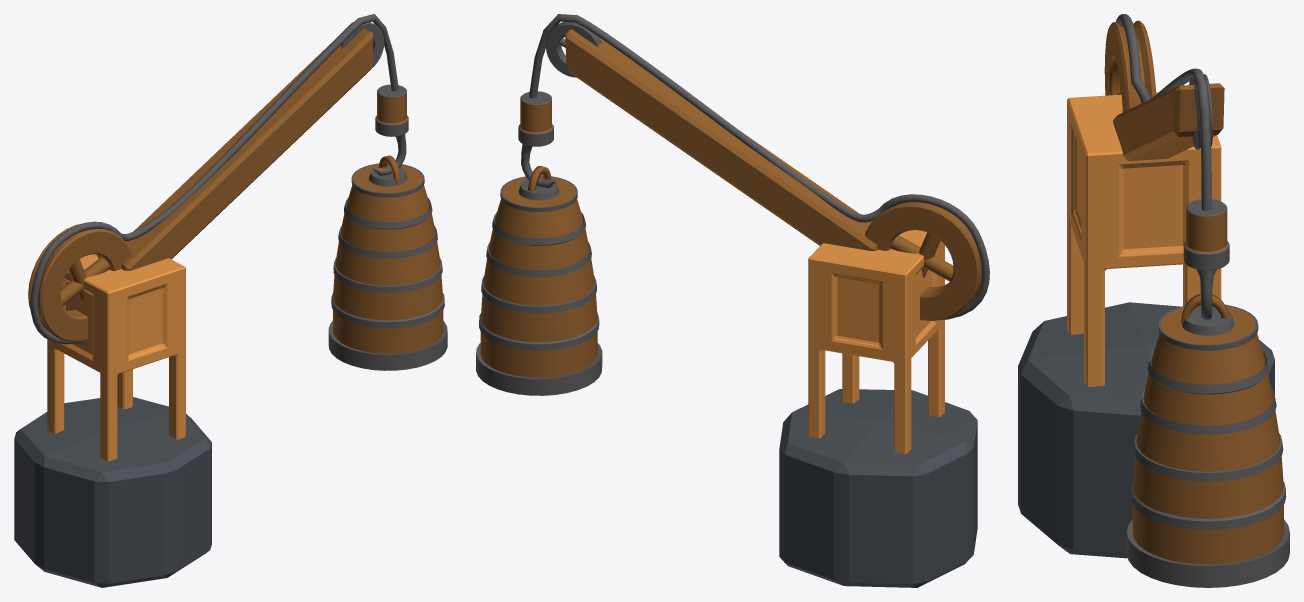
Rendered from ProjectAssets.fbx.
The picture shows the model from 3 angles, left to right: view 1: azimuth 30°, elevation 25°; view 2: azimuth 150°, elevation 25°; view 3: azimuth 270°, elevation 25°; orthographic projection. The views are drawn at different scales.
Visible parts, largest first — view 1: Cube, Cylinder.016, Cube.001, Cube.002, Cylinder.012, BézierCurve, Cylinder.014, Cylinder.013; view 2: Cube, Cylinder.016, Cube.001, Cube.002, Cylinder.012, BézierCurve, Cylinder.014, Cylinder.013; view 3: Cylinder.016, Cube, Cube.001, Cube.002, Cylinder.014, Cylinder.012, BézierCurve, Cylinder.013.
Boxes of the visible parts, x1,y1,x2,y2 form: Cube: (14,397,211,587); Cylinder.016: (328,155,447,370); Cube.001: (47,254,185,461); Cube.002: (121,22,372,270); Cylinder.012: (28,223,131,341); BézierCurve: (30,14,398,344); Cylinder.014: (373,84,408,175); Cylinder.013: (340,22,384,68); Cube: (779,389,977,587); Cylinder.016: (476,166,602,395); Cube.001: (808,221,944,454); Cube.002: (565,29,877,250); Cylinder.012: (865,202,981,320); BézierCurve: (529,14,989,320); Cylinder.014: (518,91,555,187); Cylinder.013: (546,21,601,77); Cylinder.016: (1126,294,1289,587); Cube: (1018,302,1274,558); Cube.001: (1067,92,1221,386); Cube.002: (1113,83,1224,160); Cylinder.014: (1183,199,1229,320); Cylinder.012: (1104,20,1156,112); BézierCurve: (1116,14,1211,210); Cylinder.013: (1189,74,1213,149).
Bounding box in the file's own units: 68.13 × 66.57 × 26.48.
